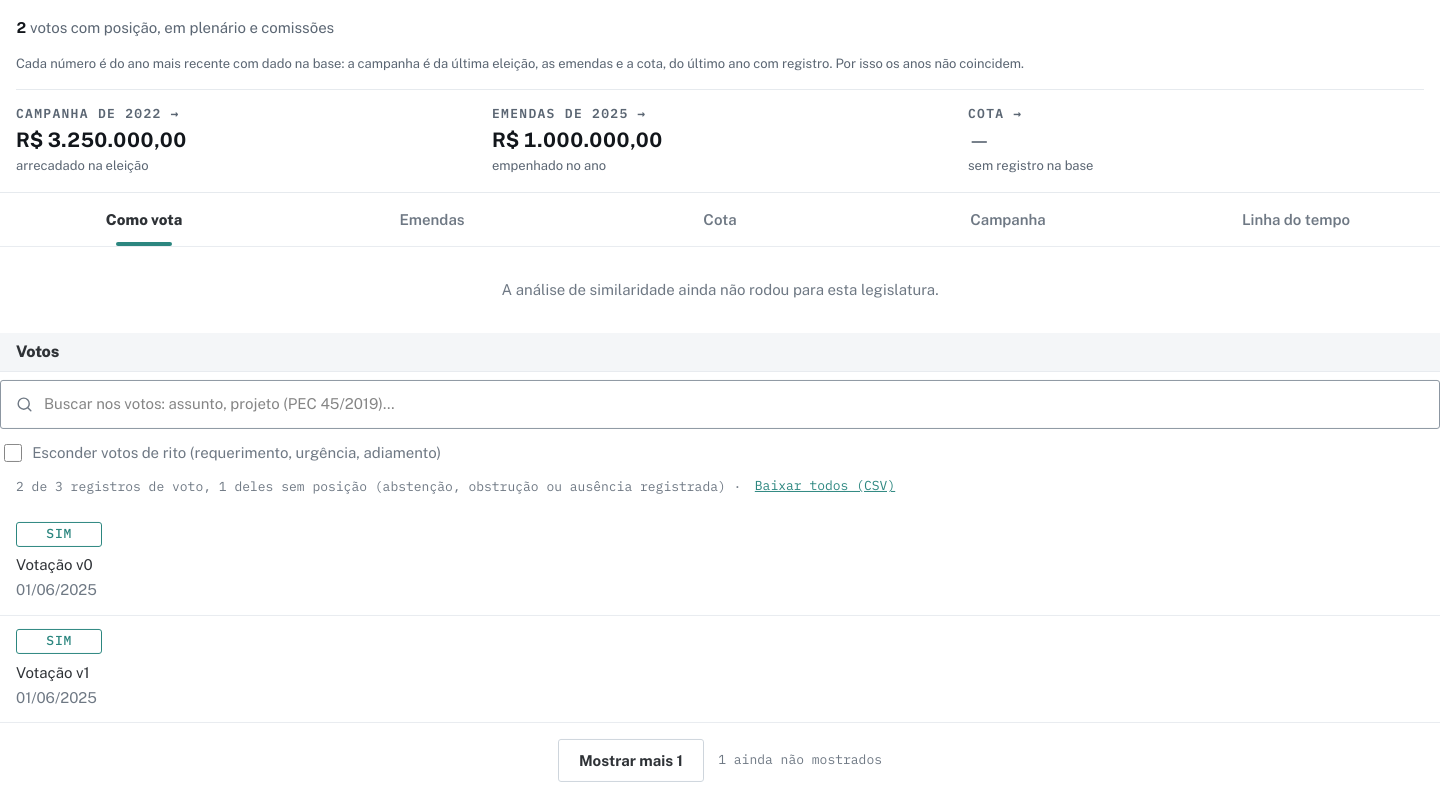
Test: listas da ficha em páginas › votos: diz o total e busca a página seguinte
(page scrolled)
Click the button "Mostrar mais 1" at x=631, y=761, box [558,739,704,782]
(page scrolled)
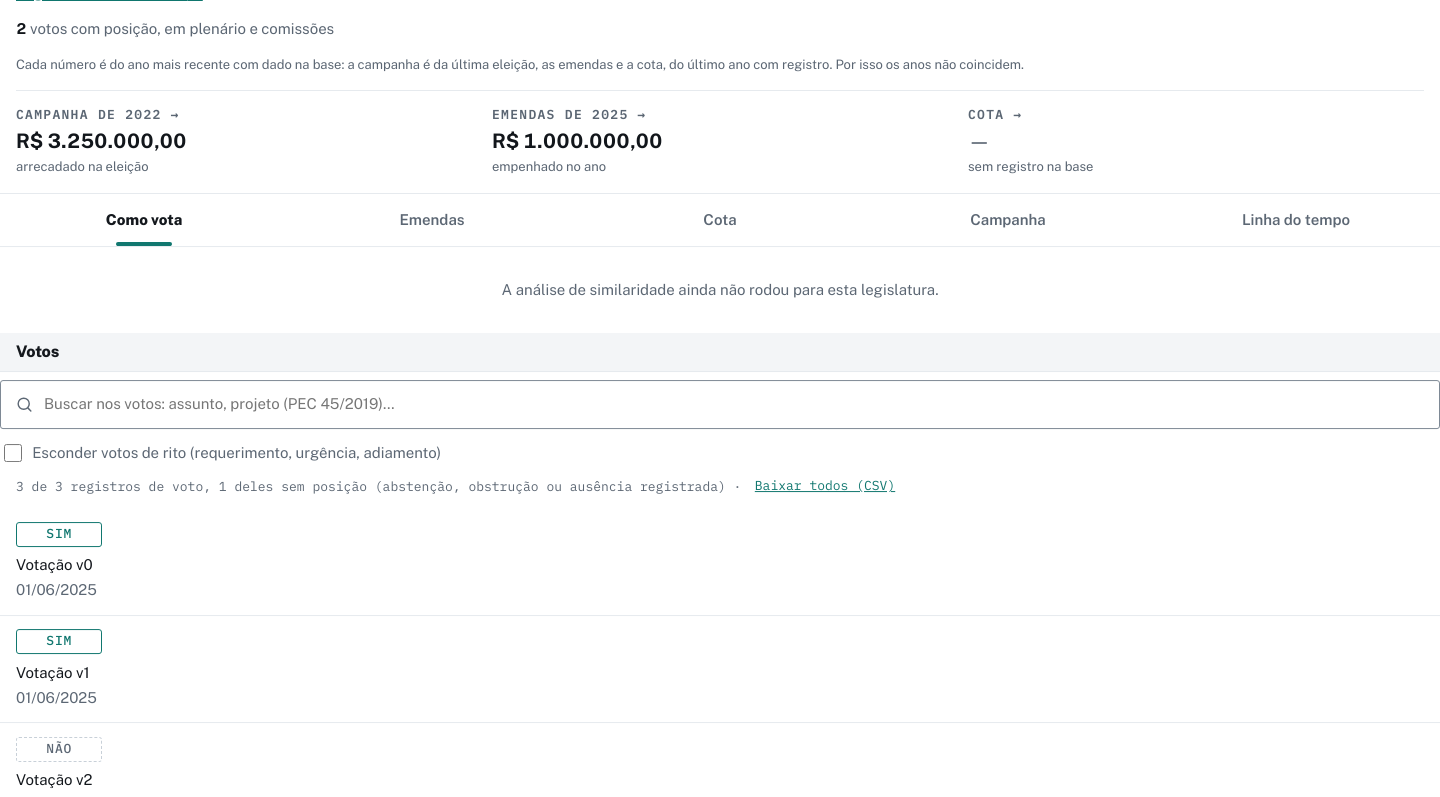
Expected: the text "Votação v2" is shown, [16,771,92,788]
Expected: the button "Mostrar mais" is gone
